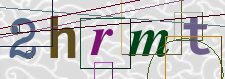2: (9, 17, 37, 60)
h: (49, 14, 77, 60)
m: (128, 29, 170, 58)
r: (90, 27, 114, 57)
t: (182, 15, 210, 55)
